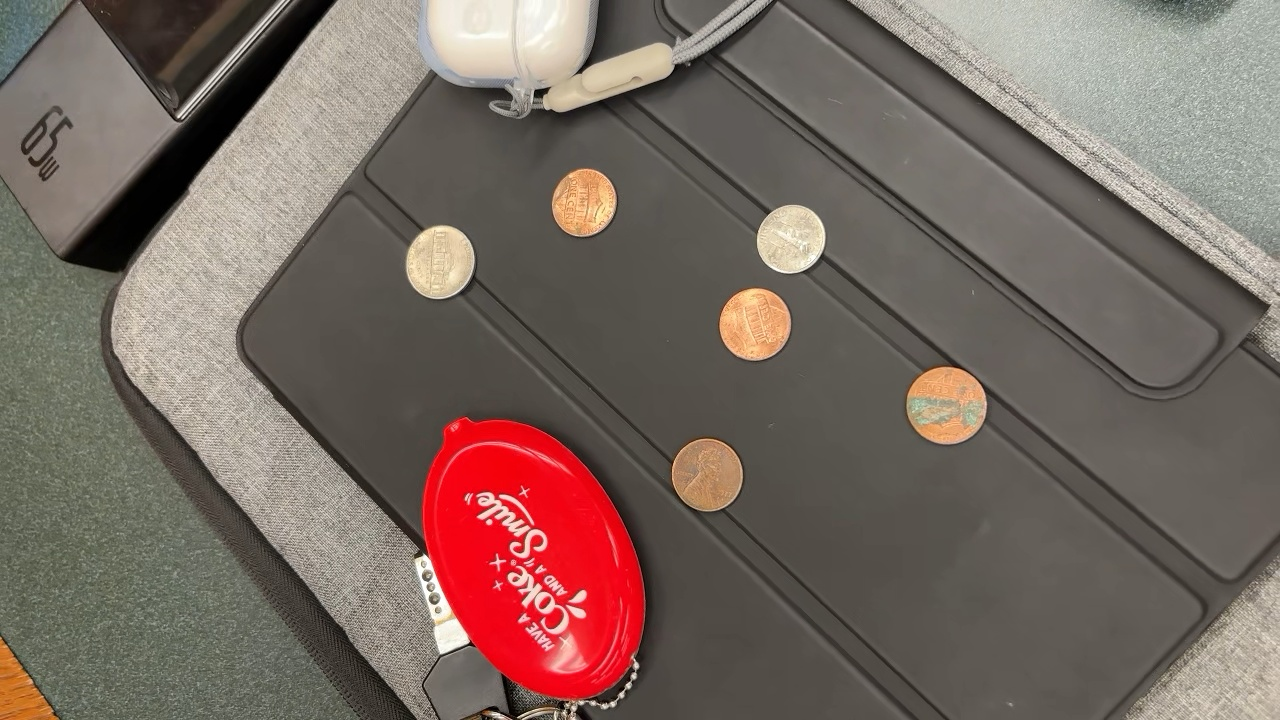dime: (756, 203, 829, 275)
nickel: (405, 226, 476, 299)
penny: (904, 362, 991, 447), (671, 438, 746, 513), (720, 289, 795, 361), (551, 168, 620, 238)
